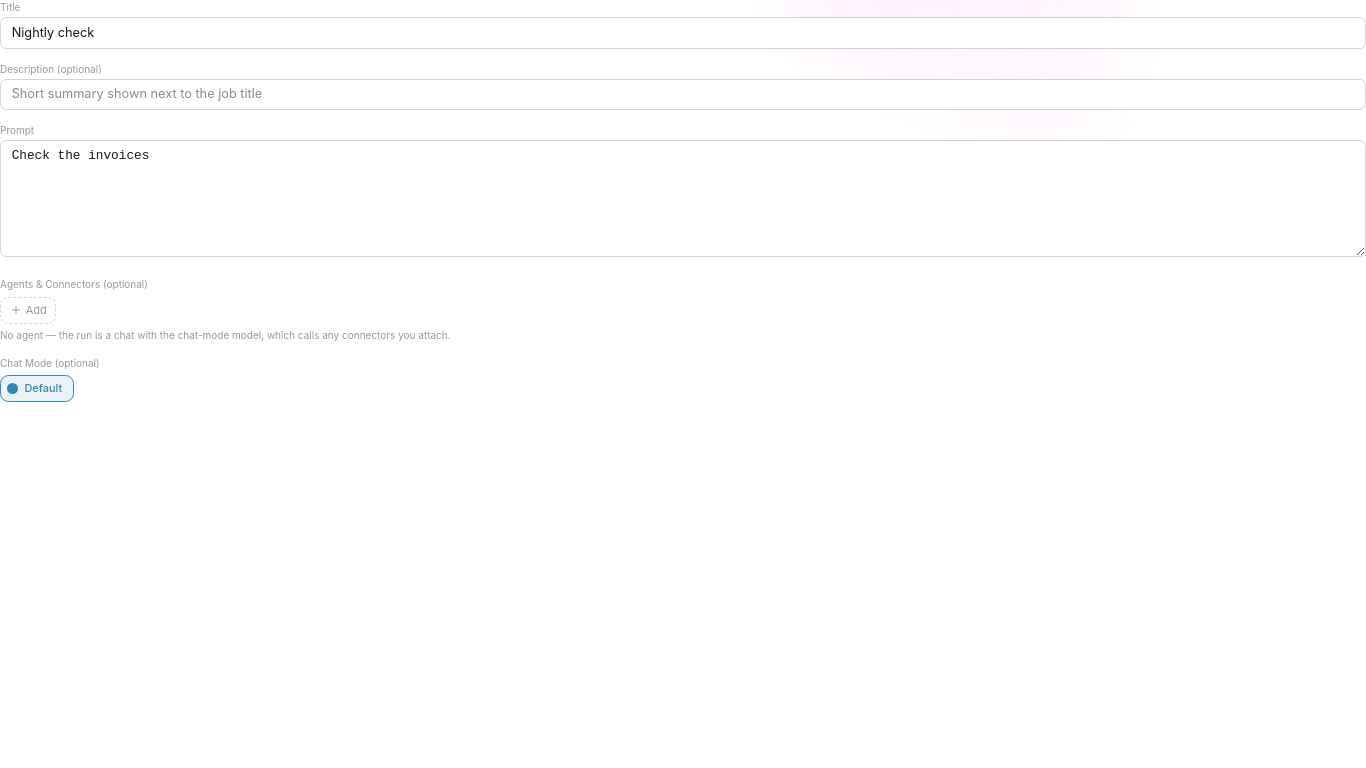
Test: Jobs agent picker › offers a folder agent
Click the button "Add". click: click(28, 310)
box: [0,296,56,324]
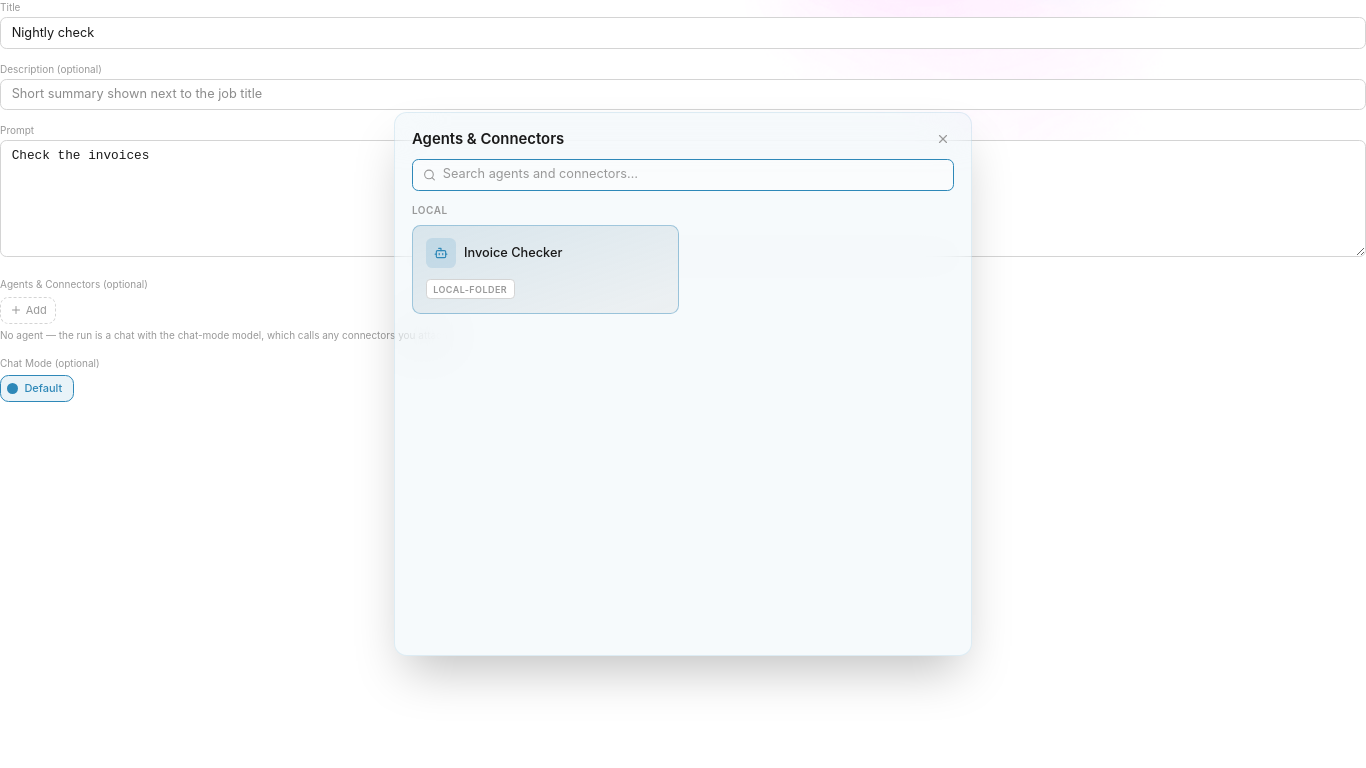
Check: the text "Invoice Checker" is shown, box [464,245,579,262]
